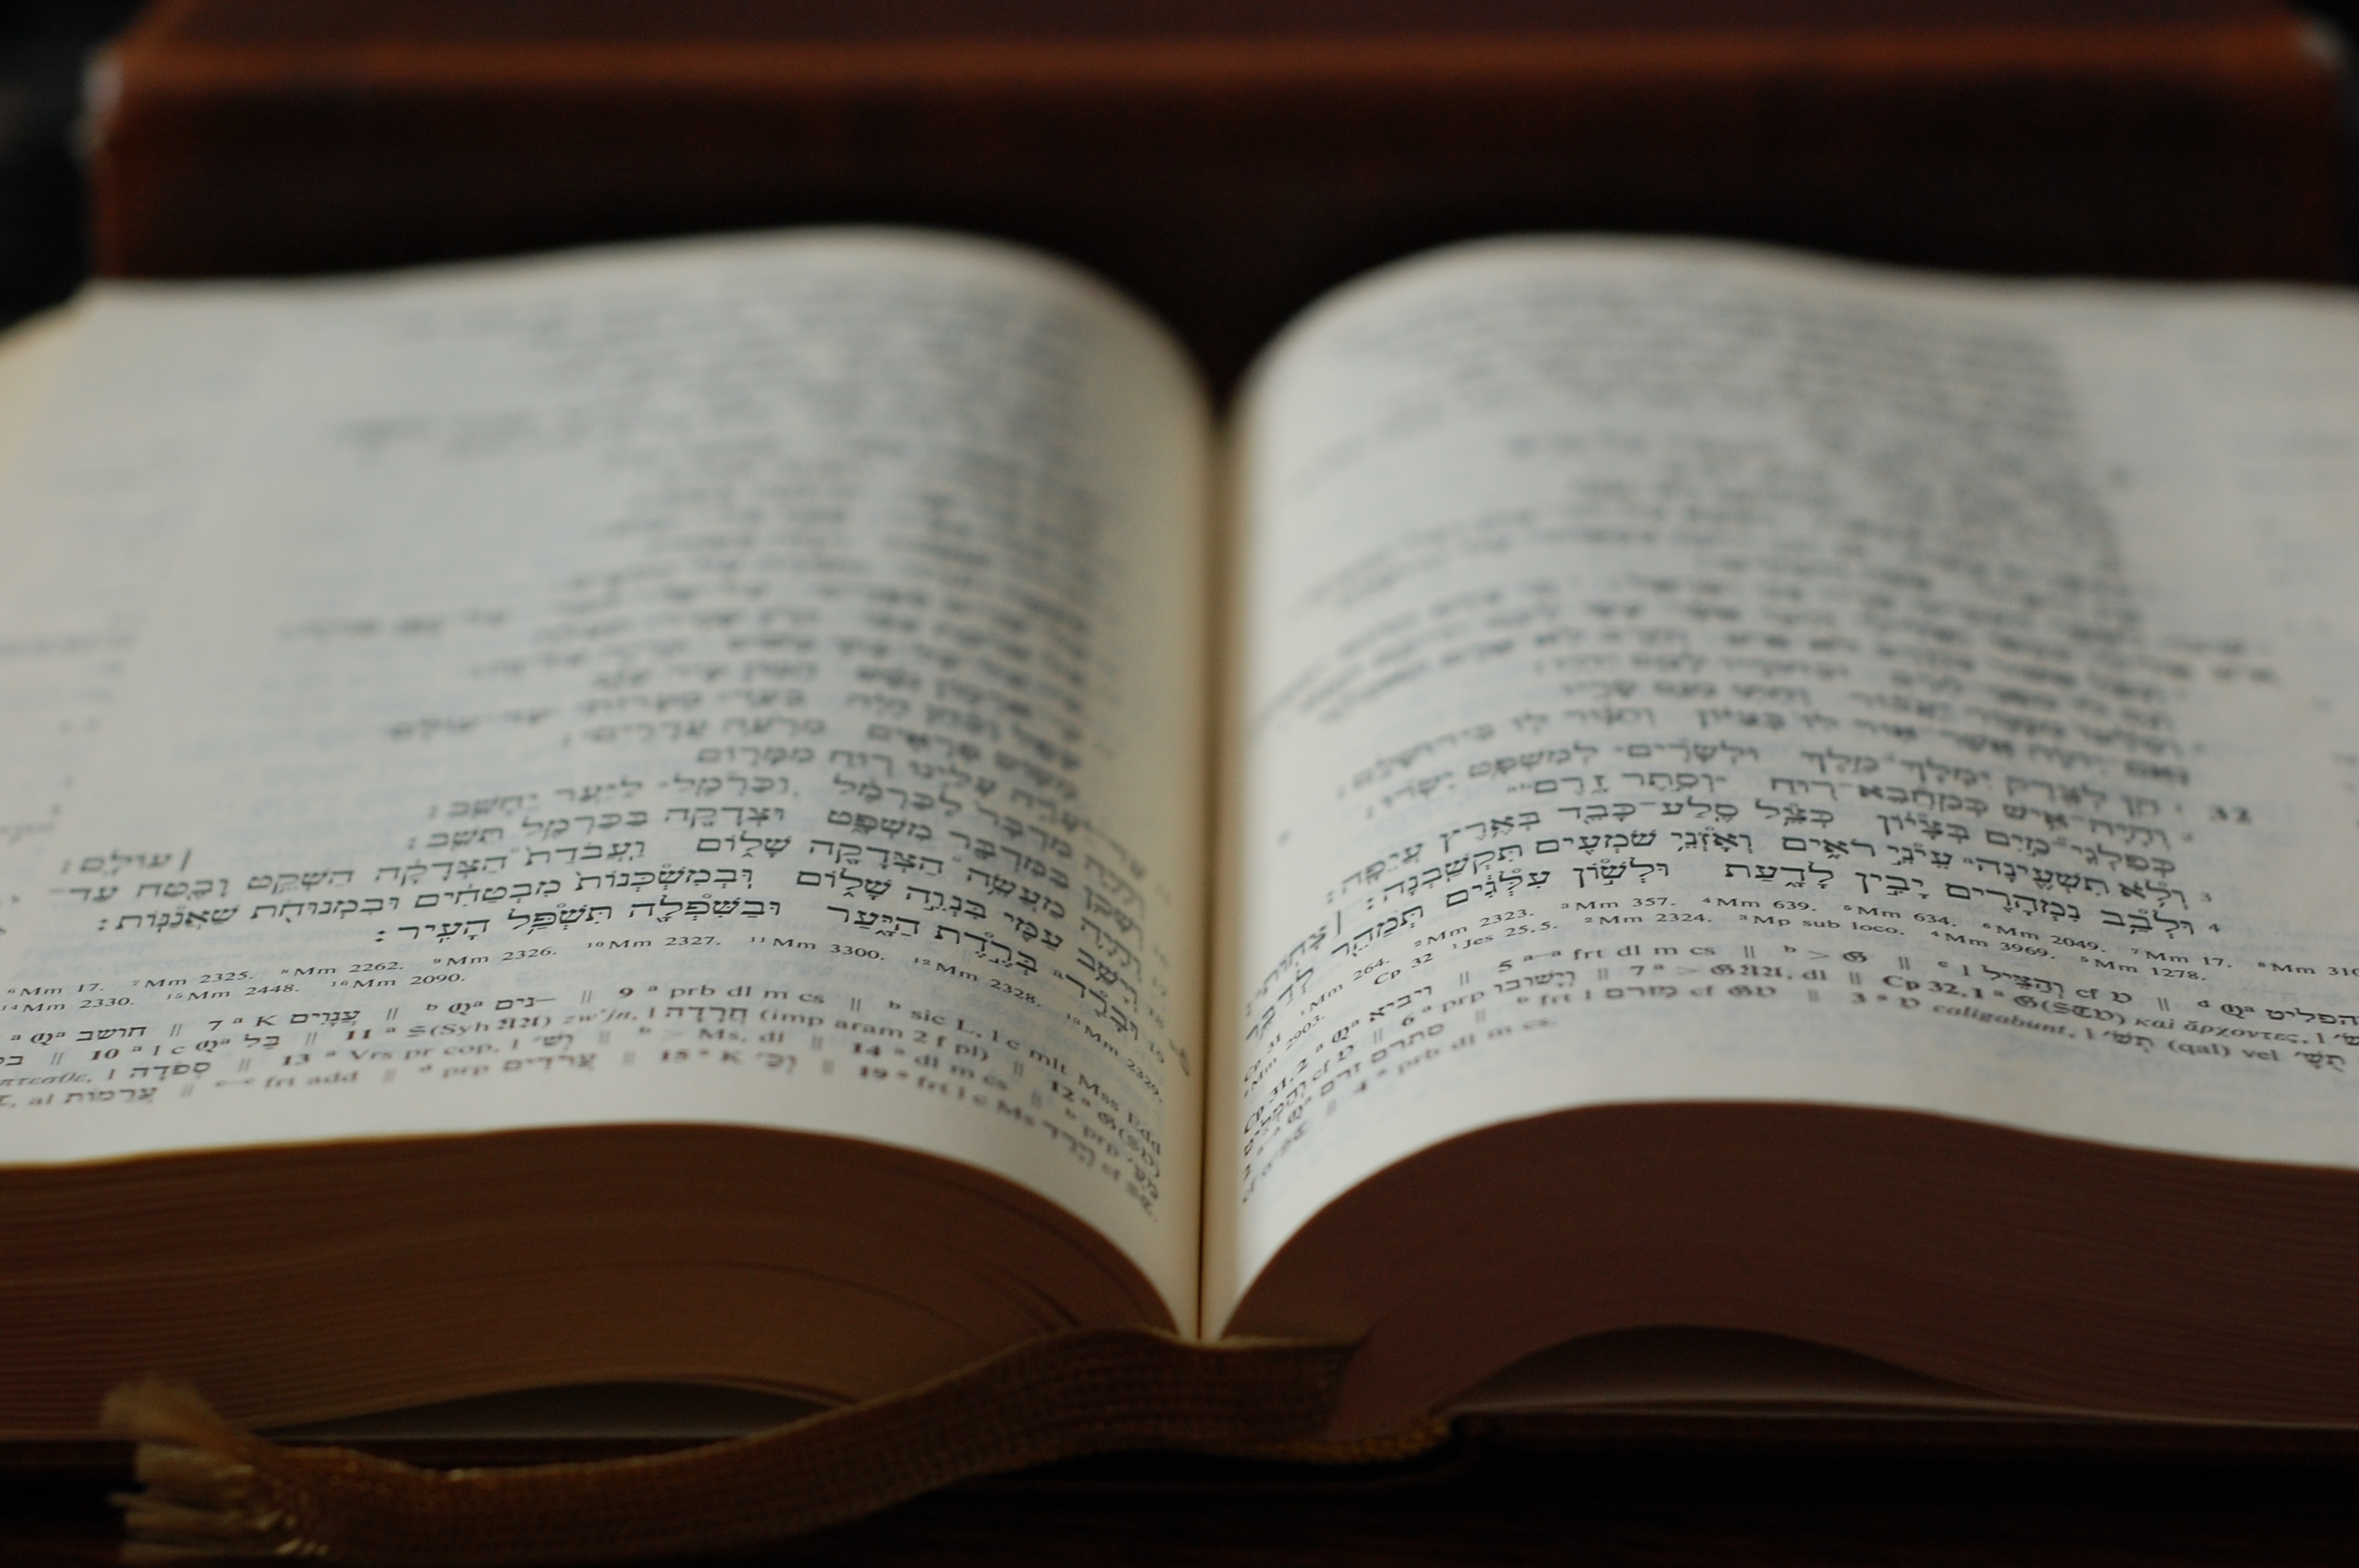book: (0, 226, 2359, 1419)
